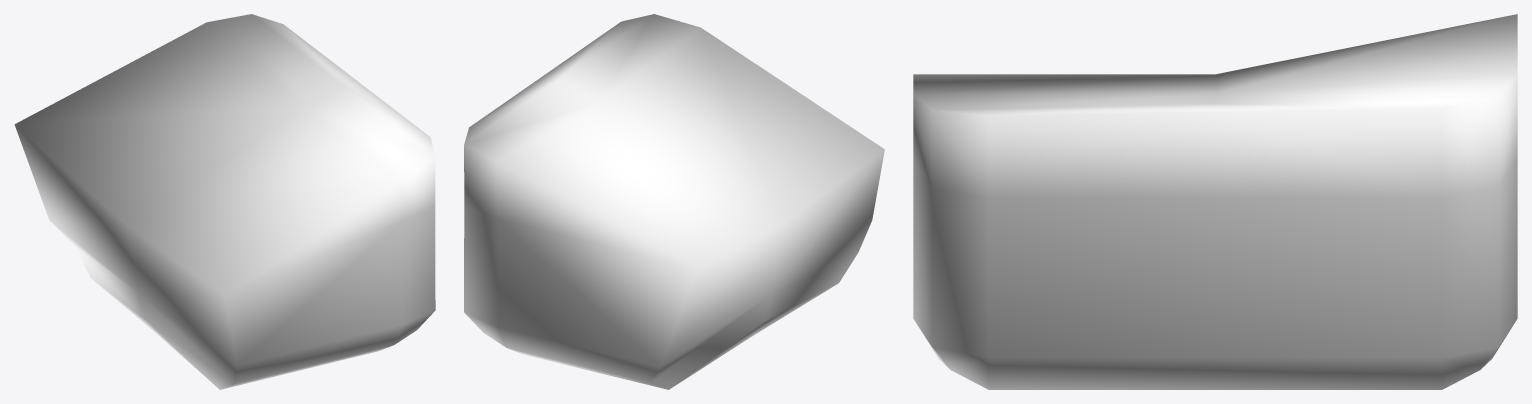
The model's file is WhiteBrickBreak4.obj.
The picture shows the model from 3 angles, left to right: view 1: azimuth 30°, elevation 25°; view 2: azimuth 150°, elevation 25°; view 3: azimuth 270°, elevation 25°; orthographic projection. The views are drawn at different scales.
Parts seen in each view (by area): view 1: OriginalBrick.012_Cube.021; view 2: OriginalBrick.012_Cube.021; view 3: OriginalBrick.012_Cube.021.
Boxes of the visible parts, x1=… form: OriginalBrick.012_Cube.021: x1=14, y1=14, x2=435, y2=389; OriginalBrick.012_Cube.021: x1=464, y1=14, x2=884, y2=389; OriginalBrick.012_Cube.021: x1=913, y1=14, x2=1517, y2=389.
Bounding box in the file's own units: 0.3107 × 0.2511 × 0.4316.
Materials: 1 (1 with a texture image).
